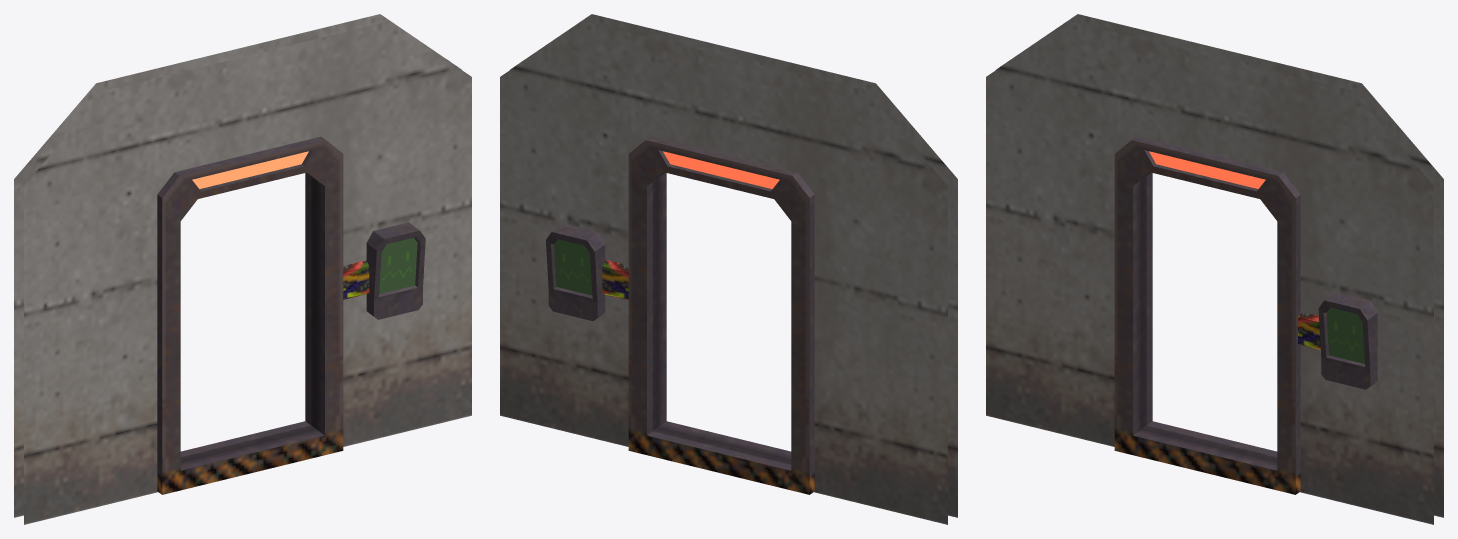
Rendered from MESH_ESGOTO_WALL_DOOR.fbx.
3 views of the same model, side by side, from view 1: azimuth 30°, elevation 25°; view 2: azimuth 150°, elevation 25°; view 3: azimuth 330°, elevation 25° (orthographic).
Visible parts, largest first — view 1: MESH_ESGOTO_WALL_DOOR; view 2: MESH_ESGOTO_WALL_DOOR; view 3: MESH_ESGOTO_WALL_DOOR.
Part boxes in pixels (x1,y1,x2,y2): MESH_ESGOTO_WALL_DOOR: [14, 14, 471, 524]; MESH_ESGOTO_WALL_DOOR: [500, 14, 957, 524]; MESH_ESGOTO_WALL_DOOR: [986, 14, 1443, 524].
Size of the model in its own units: 4 by 3.54 by 0.5031.
